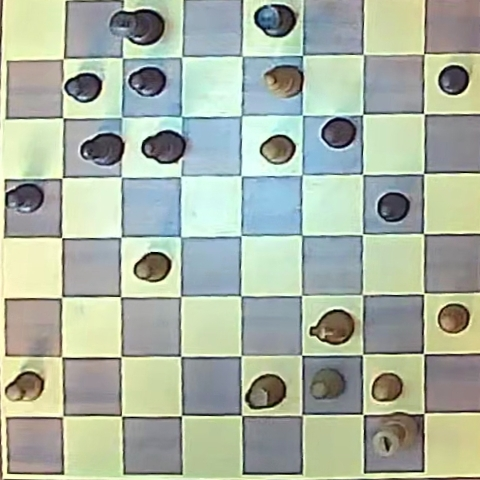black-bishop: (80, 132, 124, 166), (142, 130, 184, 164), (128, 66, 166, 97)
black-king: (111, 8, 164, 46)
black-pawn: (64, 72, 102, 102), (6, 183, 44, 213), (321, 117, 356, 149), (377, 192, 410, 222), (438, 65, 470, 95)
black-rook: (253, 3, 295, 37)
white-bishop: (264, 66, 302, 99)
white-king: (371, 415, 417, 457)
white-knight: (310, 310, 354, 346)
white-pawn: (5, 372, 44, 402), (310, 368, 345, 400), (134, 252, 171, 282), (260, 134, 295, 164), (437, 304, 469, 333), (372, 373, 403, 401)
white-rook: (245, 374, 286, 409)
